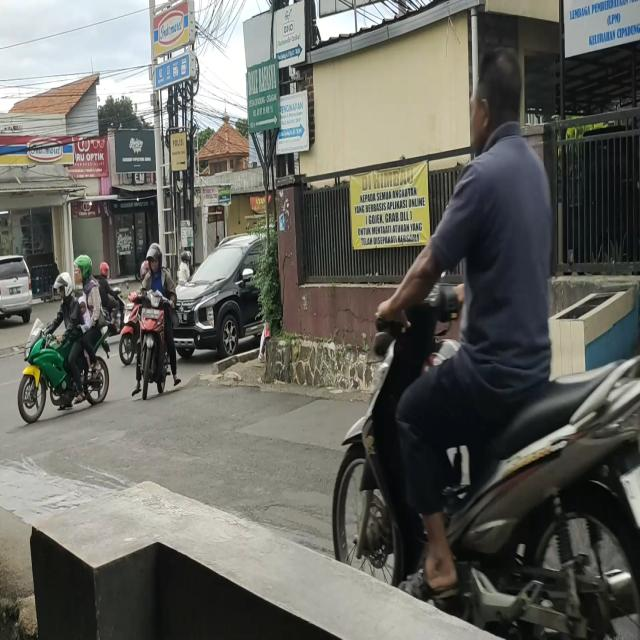helmet: (146, 246, 165, 278), (54, 269, 72, 301), (76, 256, 91, 280), (101, 261, 110, 279), (180, 252, 191, 264)
no-helmet: (459, 56, 520, 154), (78, 292, 87, 316)
